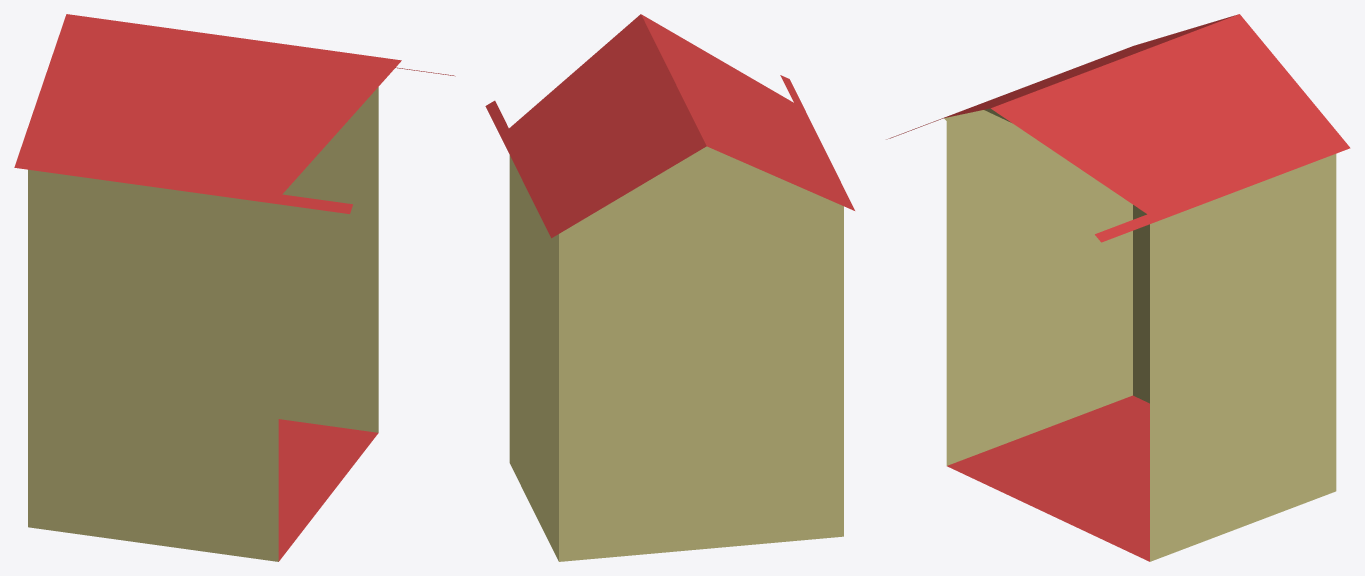
3 renders of one model, left to right at view 1: azimuth 30°, elevation 25°; view 2: azimuth 150°, elevation 25°; view 3: azimuth 270°, elevation 25°, orthographic. The views are drawn at different scales.
Bounding box in the file's own units: 11.4 × 11.42 × 11.49.
